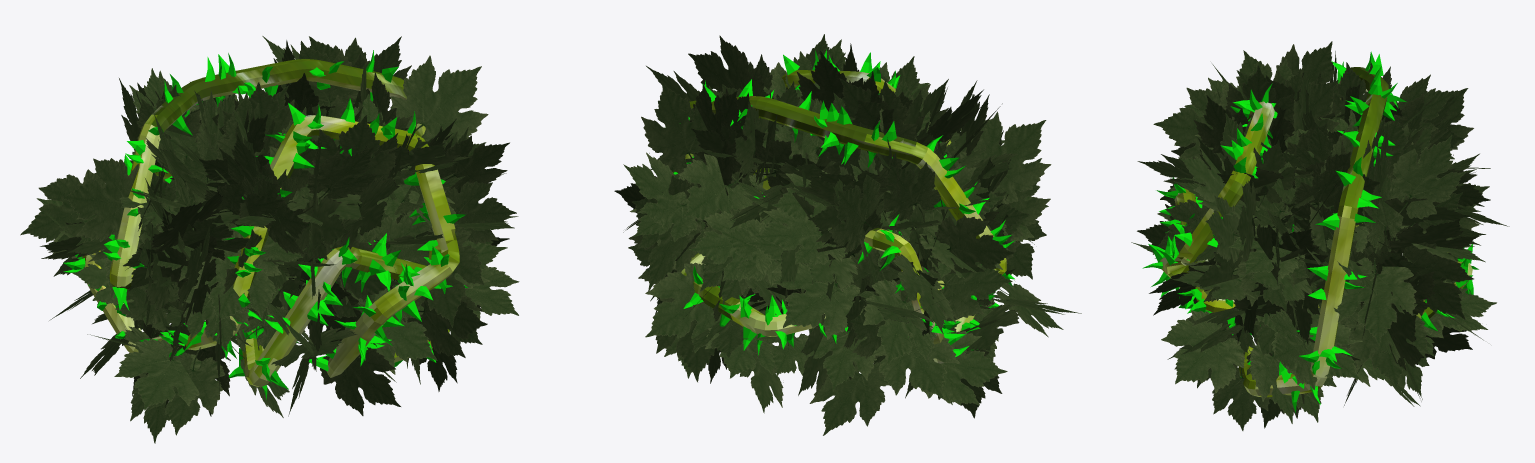
File: puskatummatappura.fbx
3 renders of one model, left to right at view 1: azimuth 30°, elevation 25°; view 2: azimuth 150°, elevation 25°; view 3: azimuth 270°, elevation 25°, orthographic. The views are drawn at different scales.
Parts seen in each view (by area): view 1: 3209107-green-1638813_1280.002, BézierCurve; view 2: 3209107-green-1638813_1280.002, BézierCurve; view 3: 3209107-green-1638813_1280.002, BézierCurve.
Boxes of the visible parts, <box> form: 3209107-green-1638813_1280.002: <box>20,36,519,443</box>; BézierCurve: <box>63,50,467,399</box>; 3209107-green-1638813_1280.002: <box>614,34,1081,435</box>; BézierCurve: <box>672,49,1015,363</box>; 3209107-green-1638813_1280.002: <box>1131,41,1509,430</box>; BézierCurve: <box>1142,51,1478,413</box>.
Size of the model in its own units: 657 by 510 by 546.
